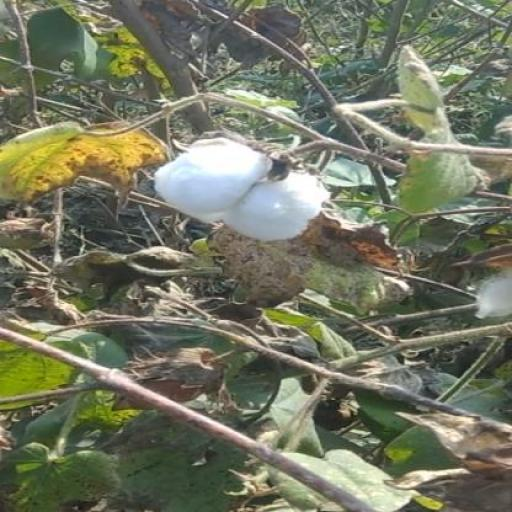cotton_ready: (142, 132, 345, 246)
